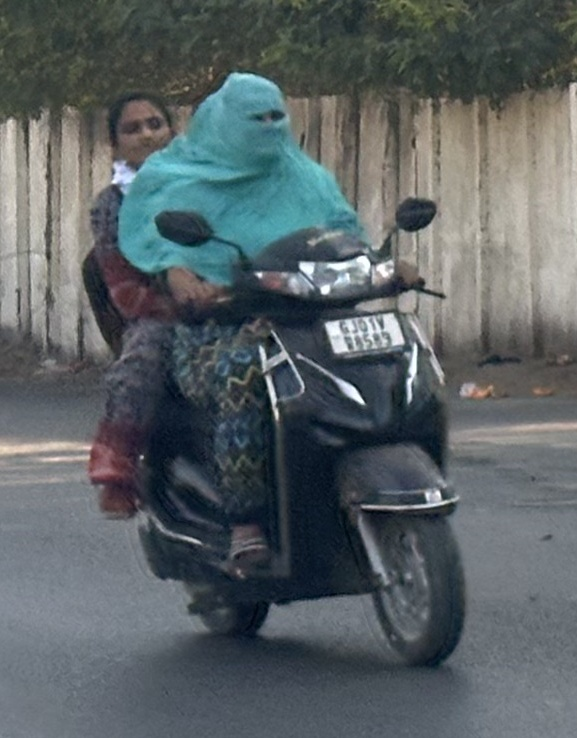BikeWithRider: (68, 62, 486, 678)
NoHelmet: (195, 65, 306, 167), (96, 83, 187, 178)
